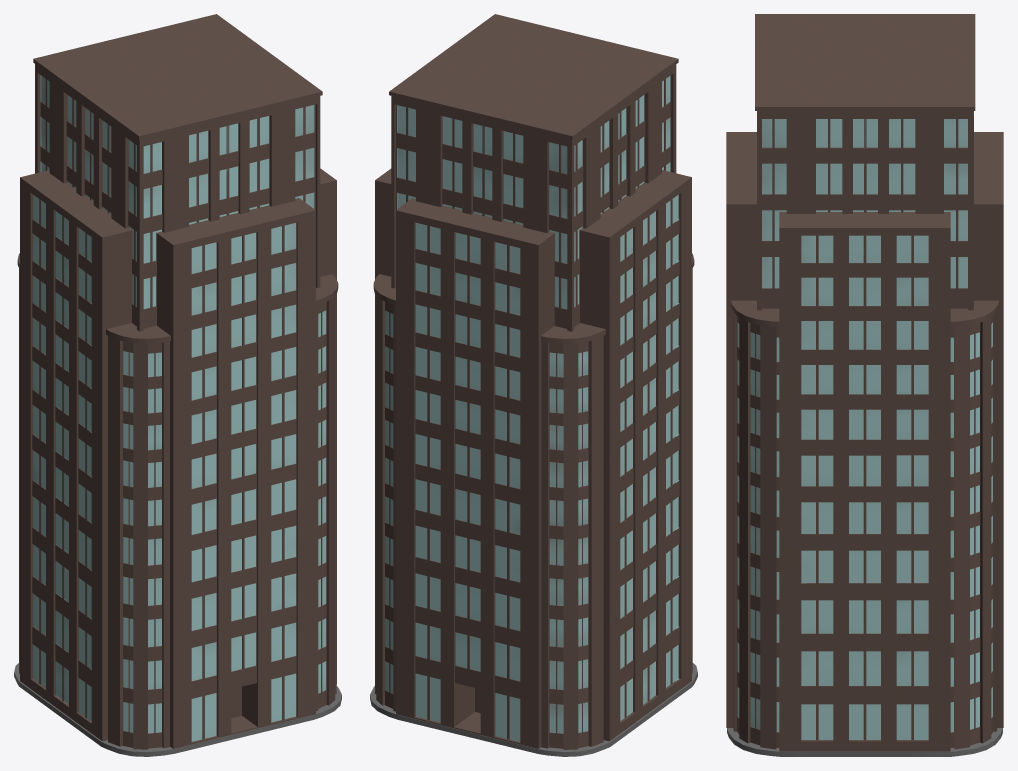
Rendered from Edificio5.fbx.
3 views of the same model, side by side, from view 1: azimuth 30°, elevation 25°; view 2: azimuth 150°, elevation 25°; view 3: azimuth 270°, elevation 25° (orthographic). The views are drawn at different scales.
Parts seen in each view (by area): view 1: Building5, Glass, Building3, Roof_Building3, Window_Building3, Floor_Building3; view 2: Building5, Glass, Building3, Roof_Building3, Window_Building3, Floor_Building3; view 3: Building5, Building3, Glass, Roof_Building3, Window_Building3, Floor_Building3.
Boxes of the visible parts, box(x1,y1,x2,y2) form: Building5: box(19, 64, 336, 749); Glass: box(33, 75, 326, 741); Building3: box(20, 168, 336, 741); Roof_Building3: box(17, 14, 338, 343); Window_Building3: box(32, 79, 326, 742); Floor_Building3: box(14, 663, 341, 756); Building5: box(375, 64, 692, 749); Glass: box(385, 75, 678, 741); Building3: box(375, 168, 691, 741); Roof_Building3: box(373, 14, 694, 343); Window_Building3: box(385, 79, 679, 742); Floor_Building3: box(370, 663, 697, 756); Building5: box(726, 111, 1003, 749); Building3: box(779, 212, 950, 751); Glass: box(737, 119, 992, 739); Roof_Building3: box(731, 14, 998, 326); Window_Building3: box(737, 119, 993, 740); Floor_Building3: box(727, 728, 1002, 756).
Bounding box in the file's own units: 1927 × 4797 × 1893.
1 material, 1 textured.
